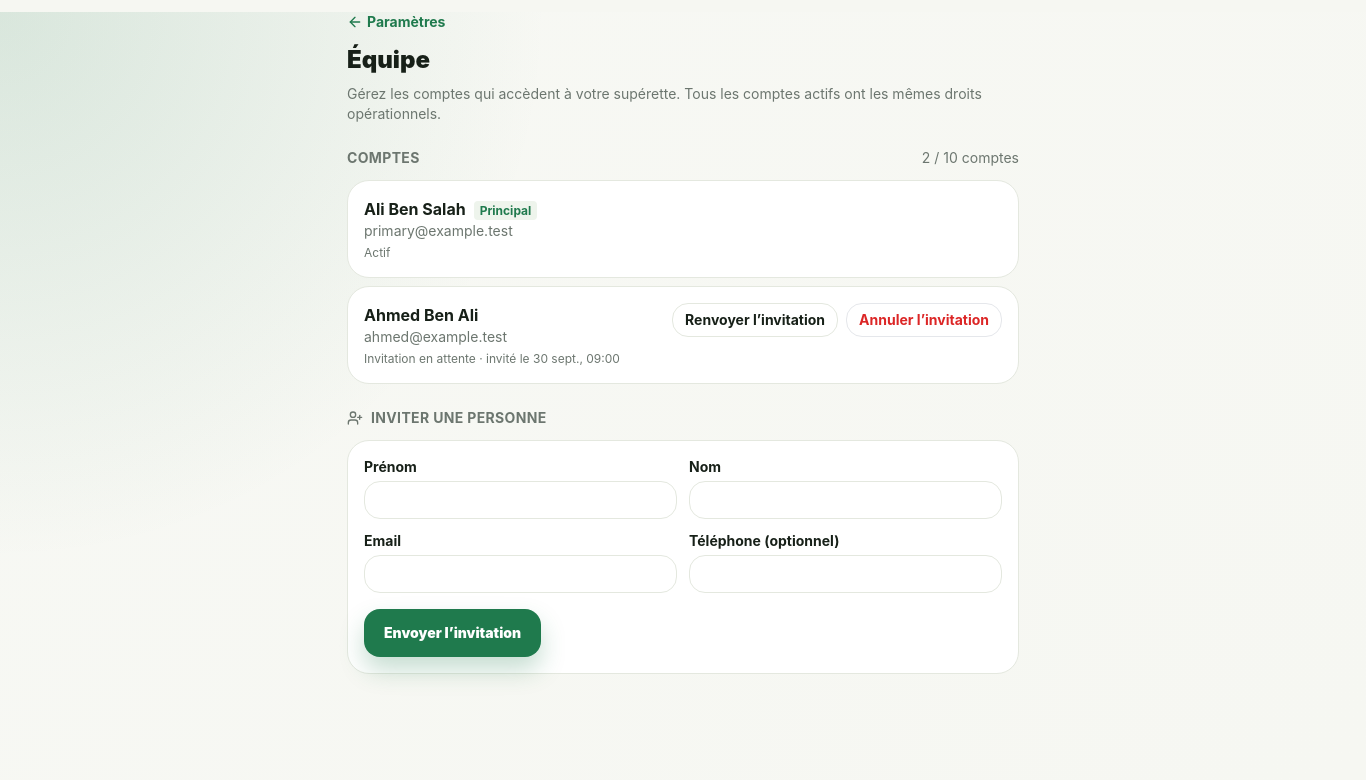
Test: MerchantTeamPage (MERCHANT-TEAM-006) › invite une personne avec le bon payload et affiche le succès
Check: the text "Ali Ben Salah" is shown, box [364,199,466,219]
Type "Noura" into the field labelled "Prénom".
click(520, 500); type("Noura")  # box [364,481,677,519]
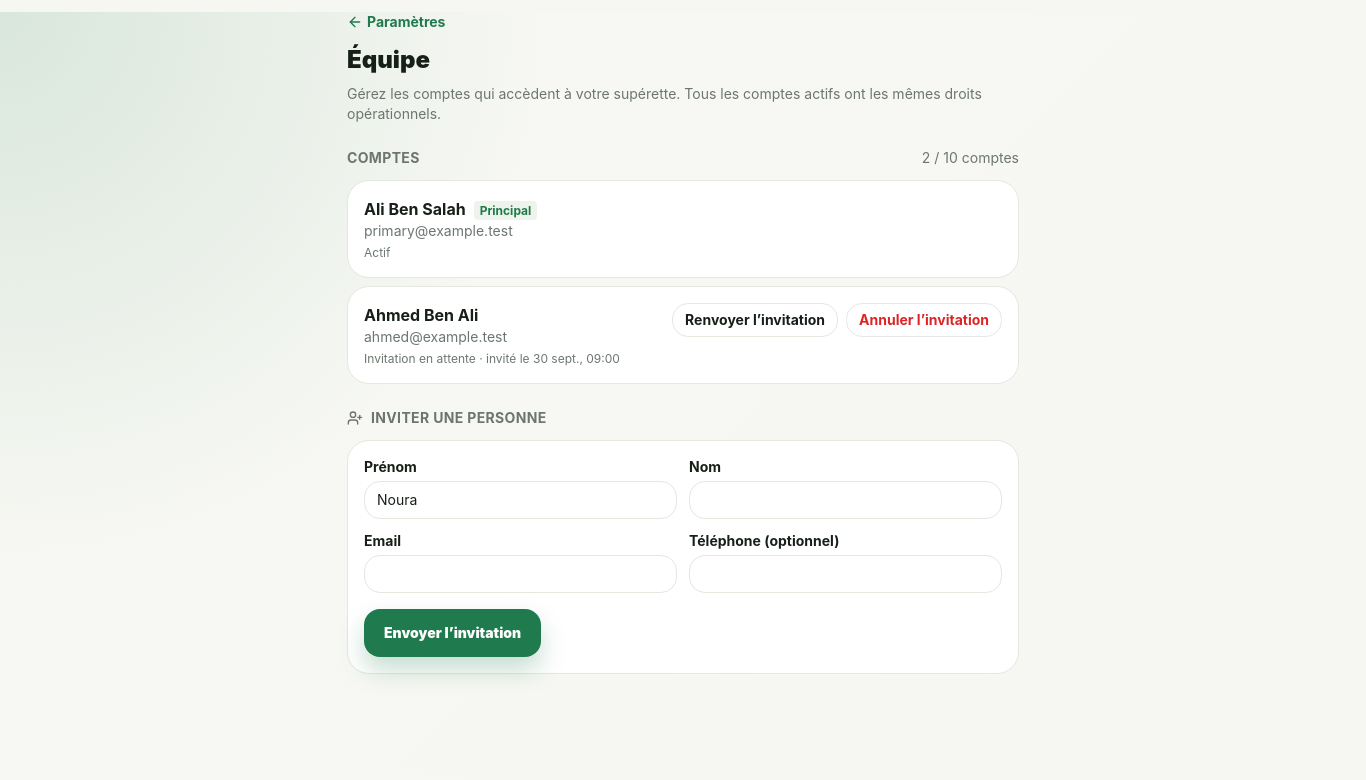
Type "Trabelsi" into the field labelled "Nom".
click(846, 500); type("Trabelsi")  # box [689,481,1002,519]
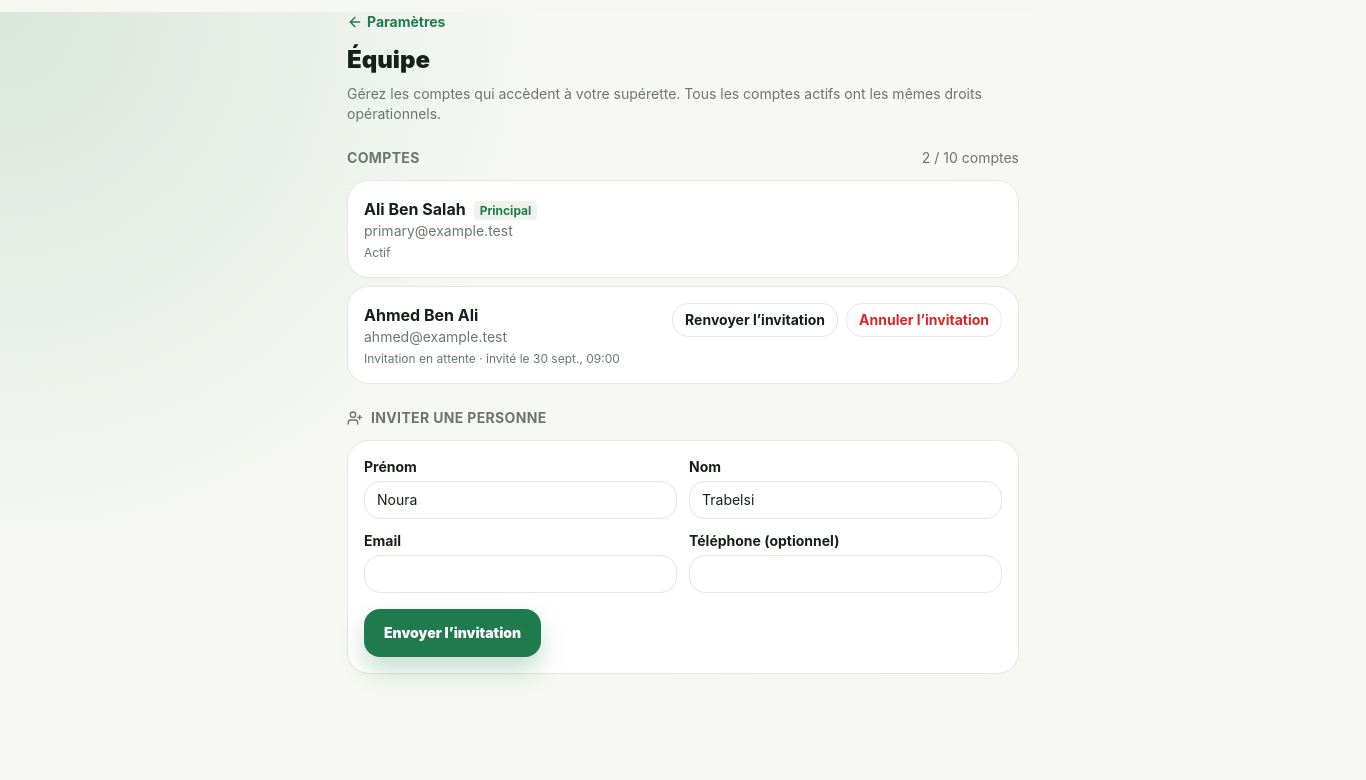
Type "Noura@Example.Test" into the field labelled "Email".
click(520, 574); type("Noura@Example.Test")  # box [364,555,677,593]
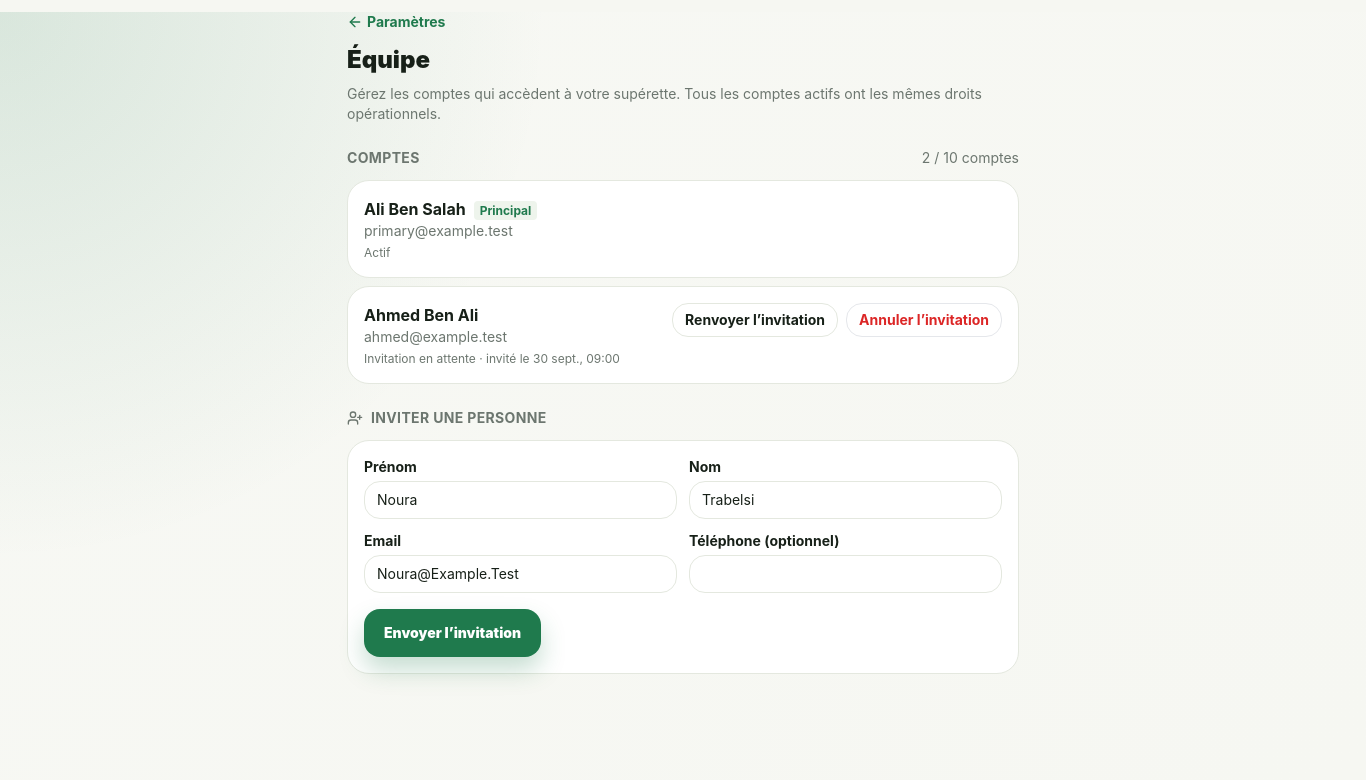
Click the button "Envoyer l’invitation".
click(453, 633)  # box [364,609,541,657]
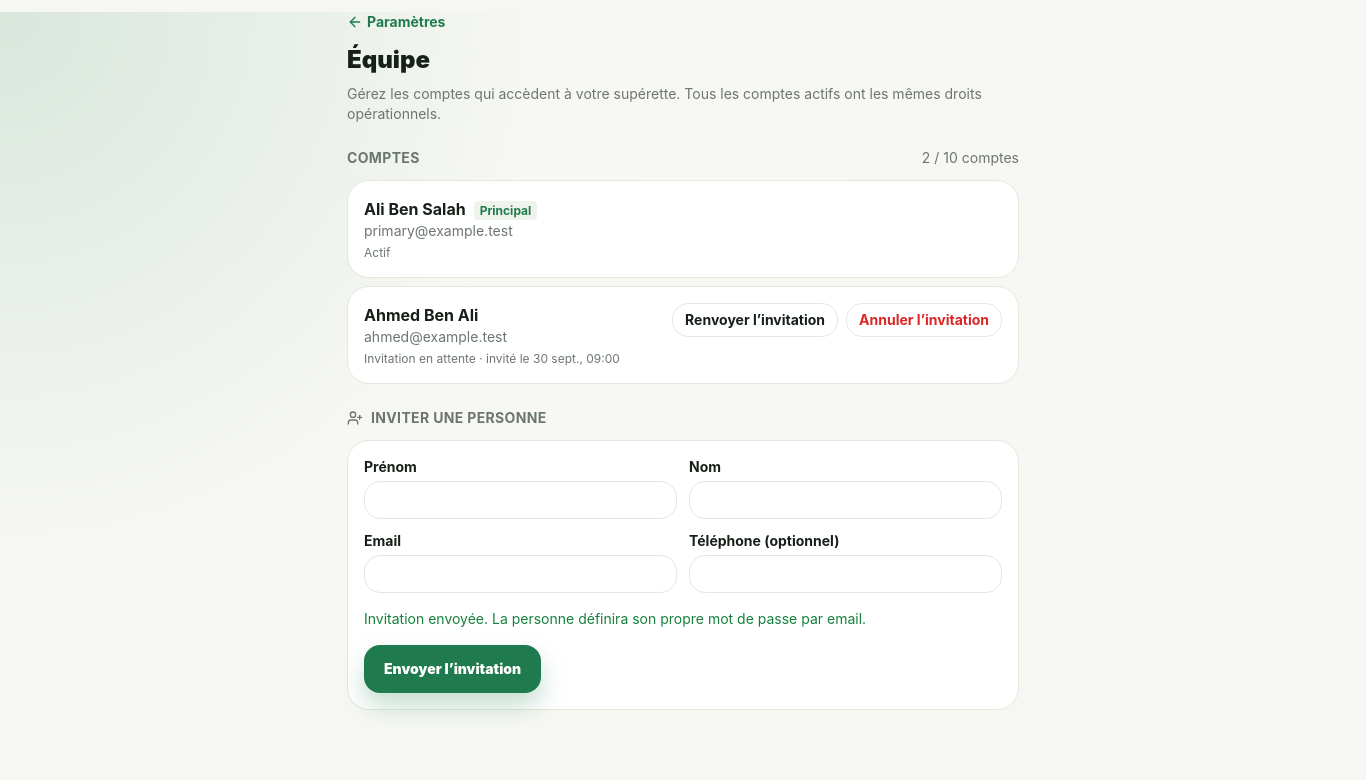
Check: the text "Invitation envoyée. La personne définira son propre mot de passe par email." is shown, box [364,610,866,627]
